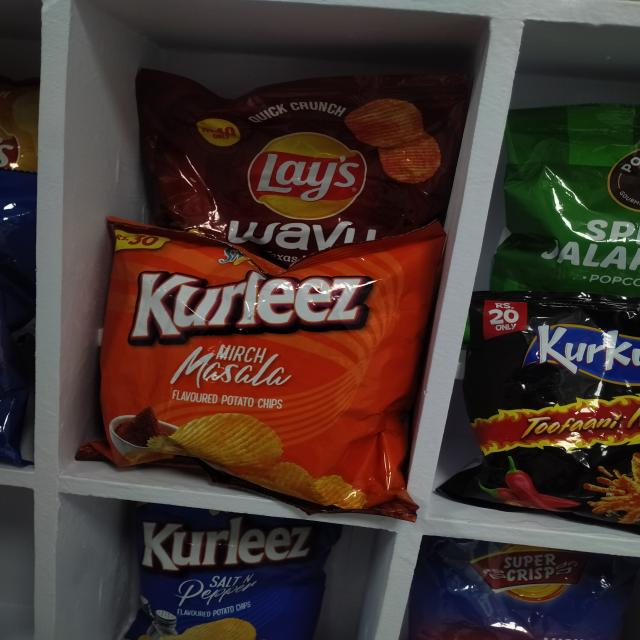Plastic: (108, 228, 440, 510), (130, 64, 457, 235), (463, 298, 640, 522), (497, 106, 640, 294), (126, 516, 337, 638), (418, 534, 623, 640)
